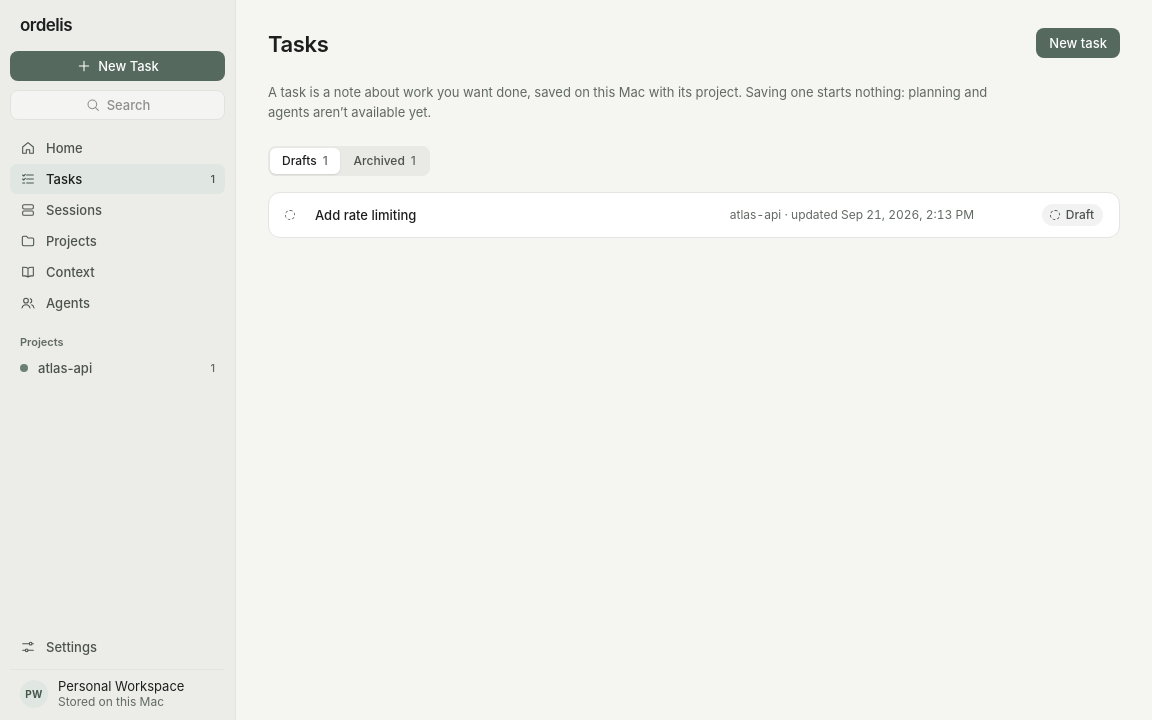
Test: Tasks page › lists drafts with their project and date, and switches to archived tasks
Expected: the link "Add rate limiting" shows "atlas-api", [285,204,1103,226]
Expected: the link "Add rate limiting" shows "updated", [285,204,1103,226]
Click the button "Archived 1" at {"x": 385, "y": 161}, box [342,148,428,174]
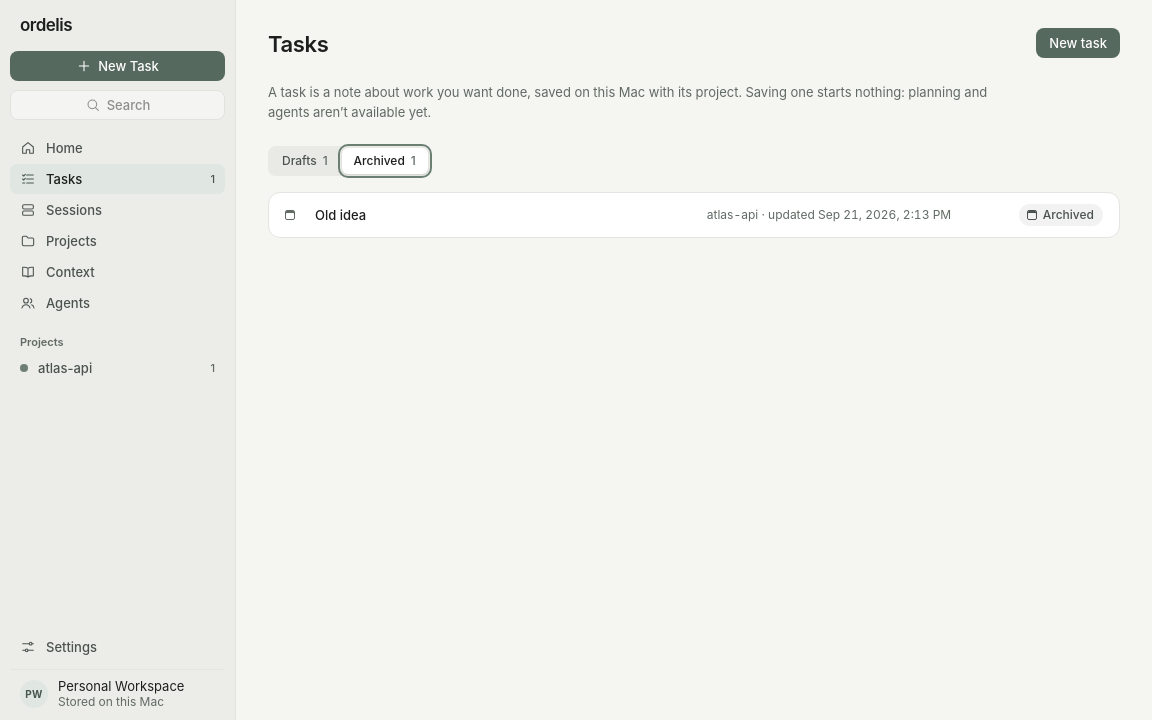
Expected: the link "Old idea atlas-api · updated Sep 21, 2026, 2:13 PM Archived" is shown, [285,204,1103,226]
